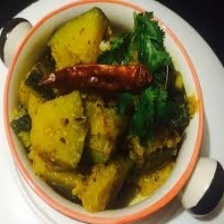sabzi: (6, 5, 200, 217)
